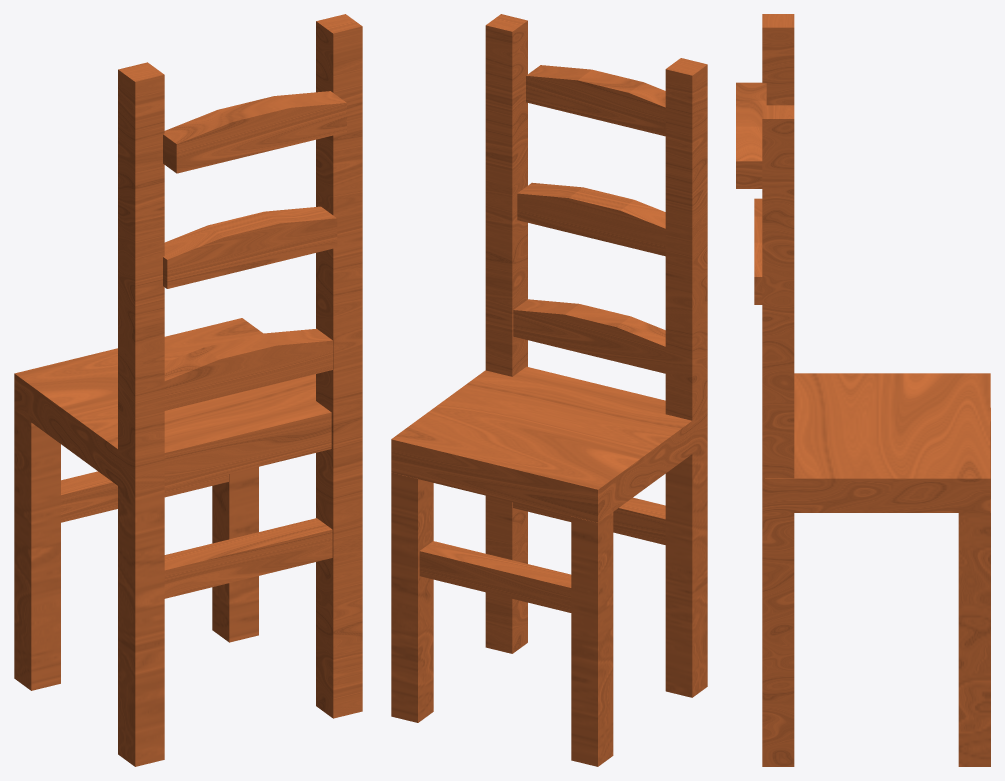
Rendered from chair.glb.
3 renders of one model, left to right at view 1: azimuth 30°, elevation 25°; view 2: azimuth 150°, elevation 25°; view 3: azimuth 270°, elevation 25°, orthographic. The views are drawn at different scales.
Visible parts, largest first — view 1: Cube.008; view 2: Cube.008; view 3: Cube.008.
Part boxes in pixels (x1,y1,x2,y2): Cube.008: [14, 14, 362, 766]; Cube.008: [391, 14, 707, 766]; Cube.008: [736, 14, 990, 766].
Bounding box in the file's own units: 5.32 × 15.3 × 5.45.
Materials: 1 (1 with a texture image).
